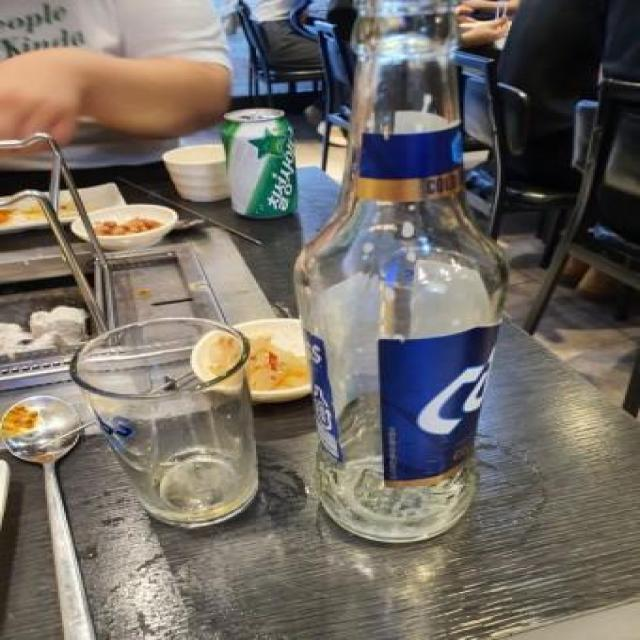beer-bottle: (292, 0, 510, 548)
